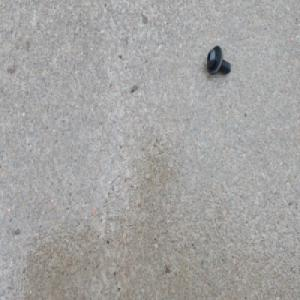BoltWasher: (205, 44, 231, 76)
